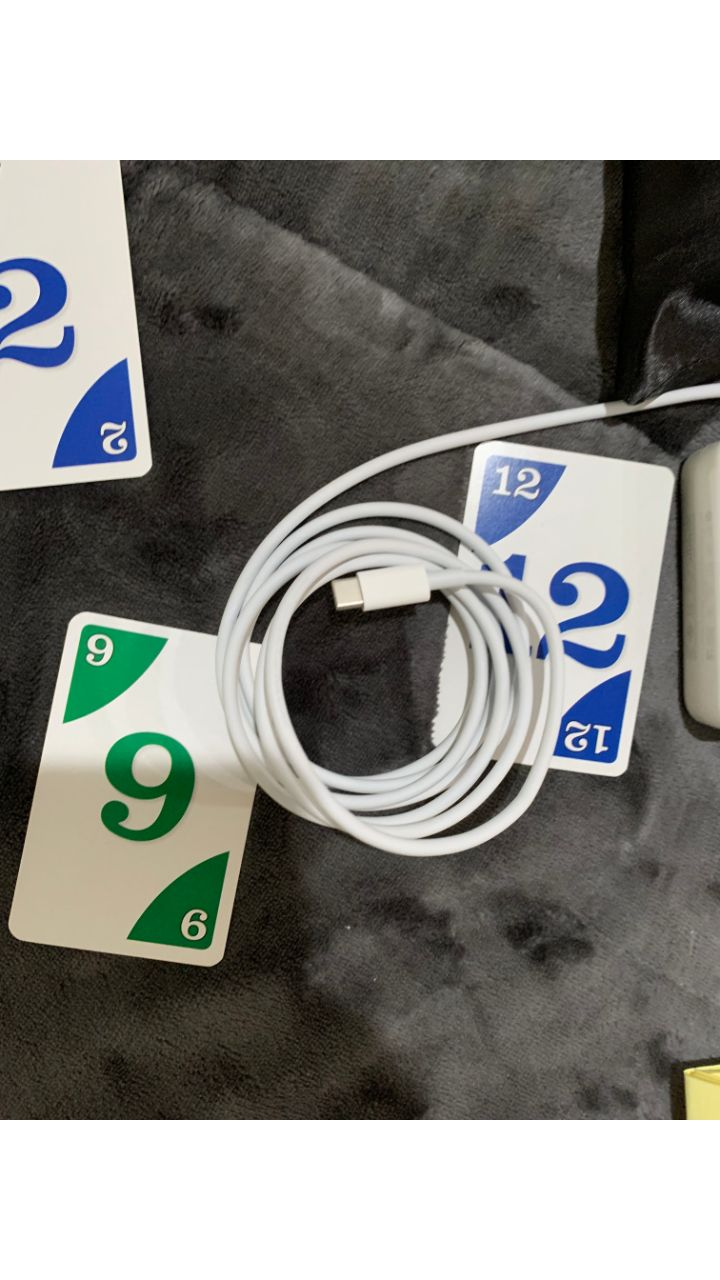nine: (9, 611, 277, 969)
twelve: (438, 441, 676, 784)
